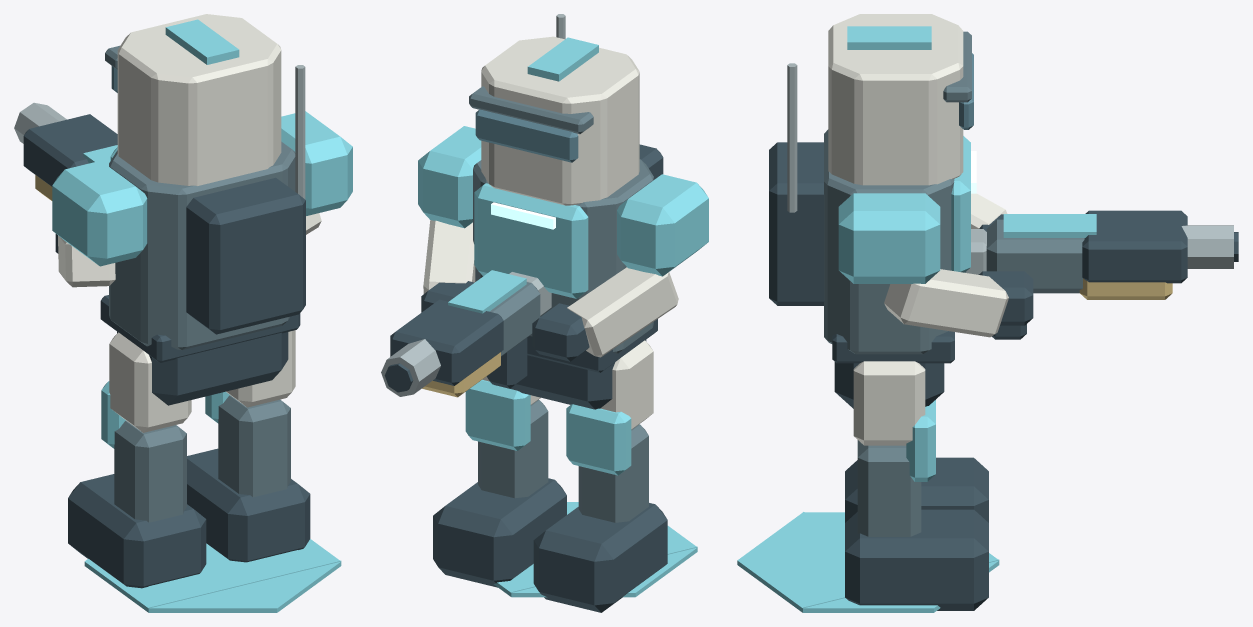
File: fighter-shotgun.glb
The picture shows the model from 3 angles, left to right: view 1: azimuth 30°, elevation 25°; view 2: azimuth 150°, elevation 25°; view 3: azimuth 270°, elevation 25°; orthographic projection. The views are drawn at different scales.
Parts seen in each view (by area): view 1: asset_fighter-shotgun__FP_Ivory, asset_fighter-shotgun__FP_Dark, asset_fighter-shotgun__FP_Team, asset_fighter-shotgun__FP_Armour, boot, boot.001, shin.001, shin, Hexagon, Triangle, thigh, weapon__FP_Dark (+4 smaller); view 2: asset_fighter-shotgun__FP_Ivory, asset_fighter-shotgun__FP_Team, boot, boot.001, asset_fighter-shotgun__FP_Dark, weapon__FP_Dark, asset_fighter-shotgun__FP_Armour, shin.001, shin, knee, knee.001, visor (+8 smaller); view 3: asset_fighter-shotgun__FP_Ivory, asset_fighter-shotgun__FP_Dark, asset_fighter-shotgun__FP_Team, boot.001, asset_fighter-shotgun__FP_Armour, weapon__FP_Dark, thigh.001, shin.001, Hexagon, receiver, boot, Triangle (+5 smaller).
Part boxes in pixels (bbox=[...]): asset_fighter-shotgun__FP_Ivory: bbox=[58, 14, 321, 287]; asset_fighter-shotgun__FP_Dark: bbox=[55, 177, 305, 405]; asset_fighter-shotgun__FP_Team: bbox=[52, 19, 352, 266]; asset_fighter-shotgun__FP_Armour: bbox=[105, 45, 295, 350]; boot: bbox=[68, 474, 206, 588]; boot.001: bbox=[187, 448, 310, 562]; shin.001: bbox=[218, 395, 290, 497]; shin: bbox=[114, 420, 186, 522]; Hexagon: bbox=[84, 539, 341, 612]; Triangle: bbox=[148, 543, 341, 608]; thigh: bbox=[109, 332, 191, 432]; weapon__FP_Dark: bbox=[23, 114, 117, 186]; asset_fighter-shotgun__FP_Ivory: bbox=[423, 36, 678, 357]; asset_fighter-shotgun__FP_Team: bbox=[418, 37, 708, 298]; boot: bbox=[533, 503, 667, 612]; boot.001: bbox=[433, 478, 566, 587]; asset_fighter-shotgun__FP_Dark: bbox=[421, 144, 663, 409]; weapon__FP_Dark: bbox=[384, 299, 527, 392]; asset_fighter-shotgun__FP_Armour: bbox=[469, 86, 653, 353]; shin.001: bbox=[478, 399, 548, 498]; shin: bbox=[578, 424, 648, 522]; knee: bbox=[566, 404, 631, 475]; knee.001: bbox=[465, 379, 530, 450]; visor: bbox=[475, 109, 578, 162]; asset_fighter-shotgun__FP_Ivory: bbox=[828, 14, 1008, 337]; asset_fighter-shotgun__FP_Dark: bbox=[769, 142, 1033, 408]; asset_fighter-shotgun__FP_Team: bbox=[838, 26, 970, 283]; boot.001: bbox=[845, 509, 988, 610]; asset_fighter-shotgun__FP_Armour: bbox=[824, 31, 971, 354]; weapon__FP_Dark: bbox=[992, 210, 1238, 339]; thigh.001: bbox=[853, 361, 925, 445]; shin.001: bbox=[857, 440, 921, 536]; Hexagon: bbox=[737, 512, 999, 612]; receiver: bbox=[986, 219, 1084, 293]; boot: bbox=[845, 457, 988, 522]; Triangle: bbox=[803, 512, 999, 608].
Size of the model in its own units: 0.74 by 1.4 by 1.19.
